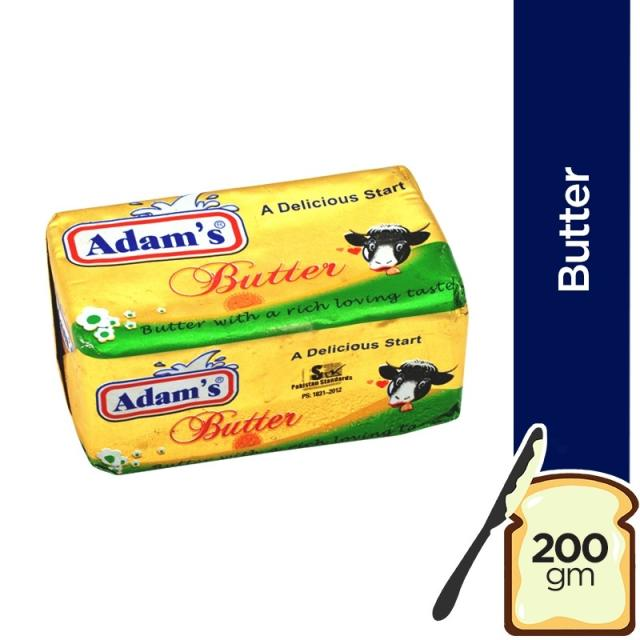butter: (45, 164, 469, 474)
